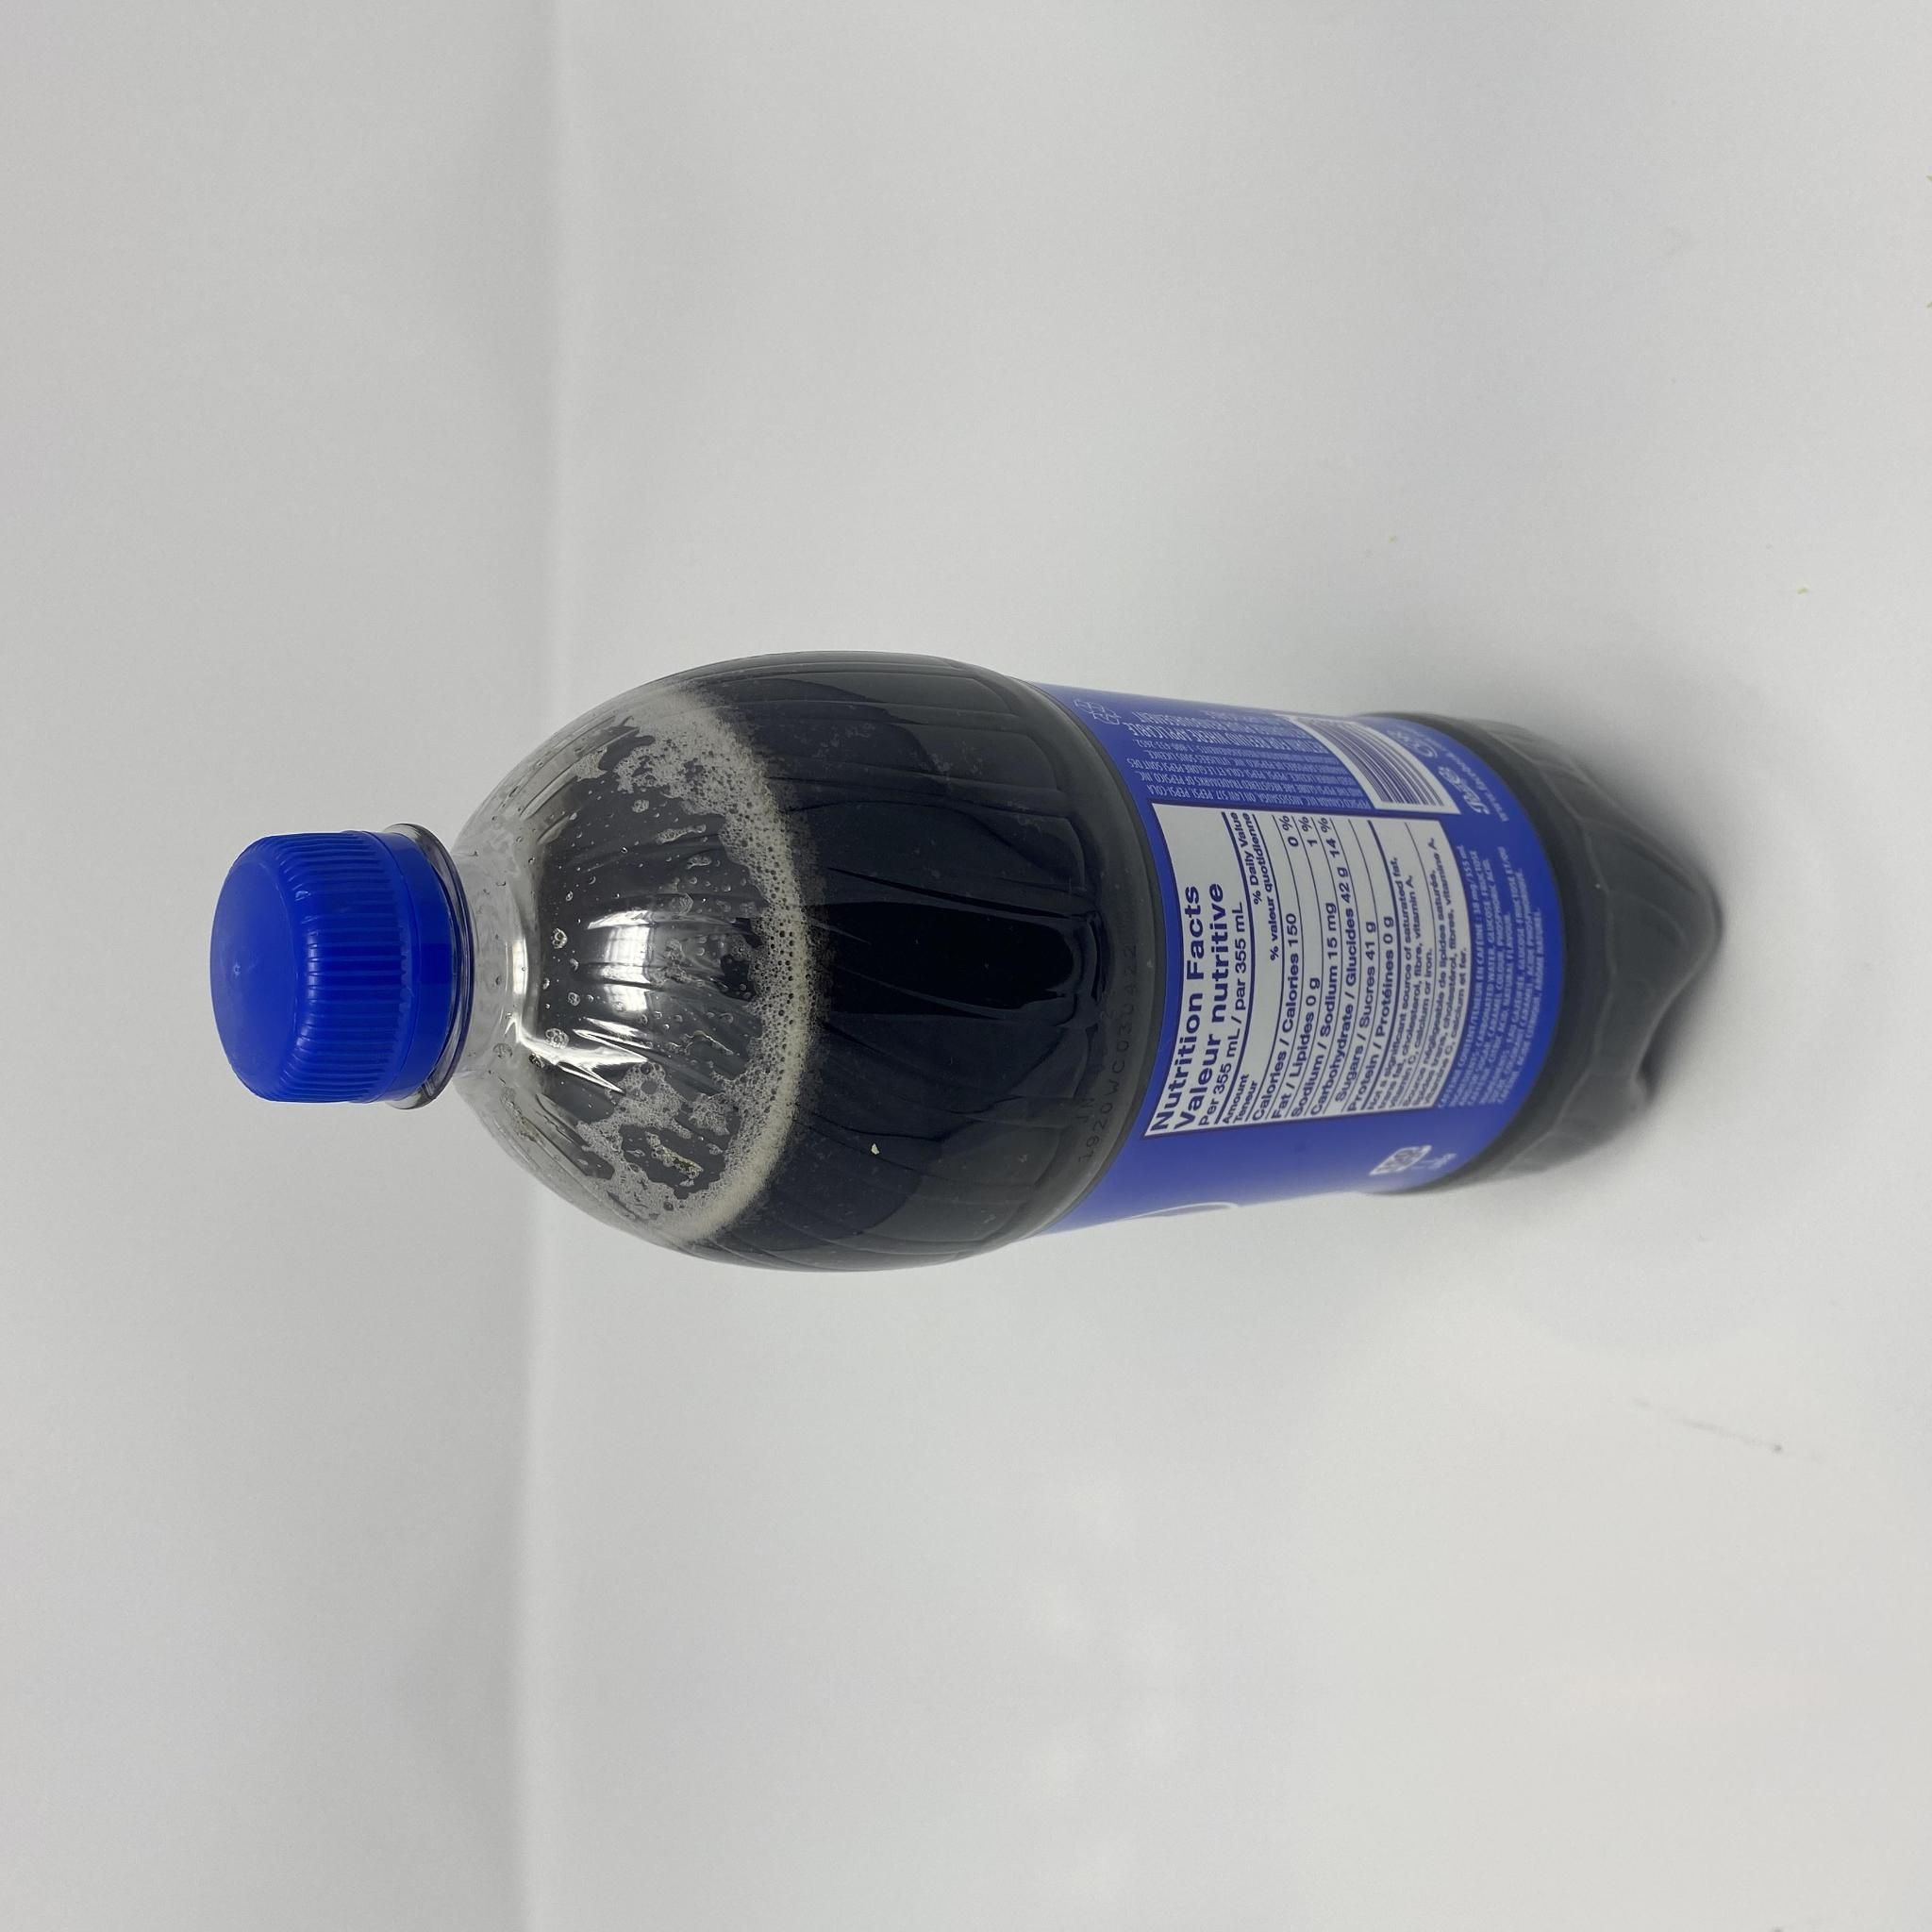PET: (207, 646, 1723, 1274)
pepsi: (207, 646, 1723, 1274)
plastic: (207, 646, 1723, 1274)
soft-drink: (207, 646, 1723, 1274)
